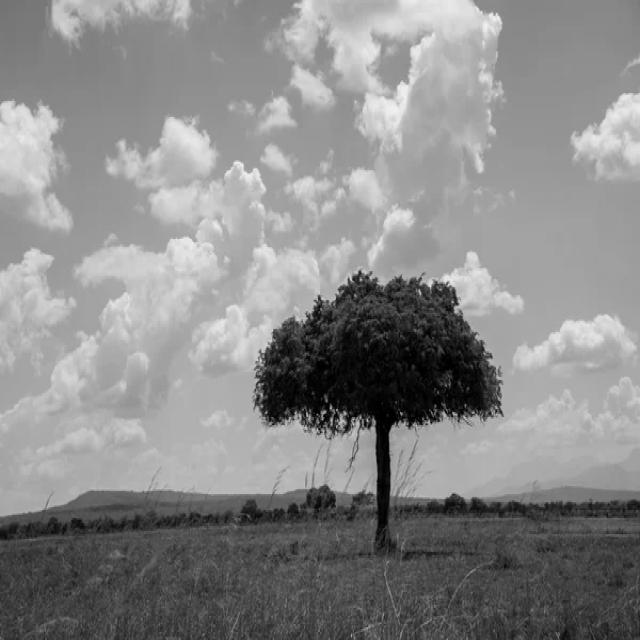Tree: (256, 271, 484, 553)
